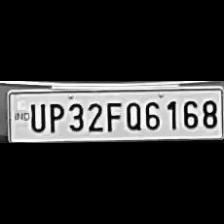1: (162, 97, 178, 130)
2: (85, 99, 103, 133)
3: (65, 98, 85, 132)
6: (142, 98, 160, 132), (180, 97, 198, 131)
8: (198, 96, 218, 130)
F: (102, 98, 122, 132)
P: (45, 100, 63, 134)
Q: (122, 98, 142, 132)
U: (27, 101, 46, 133)
